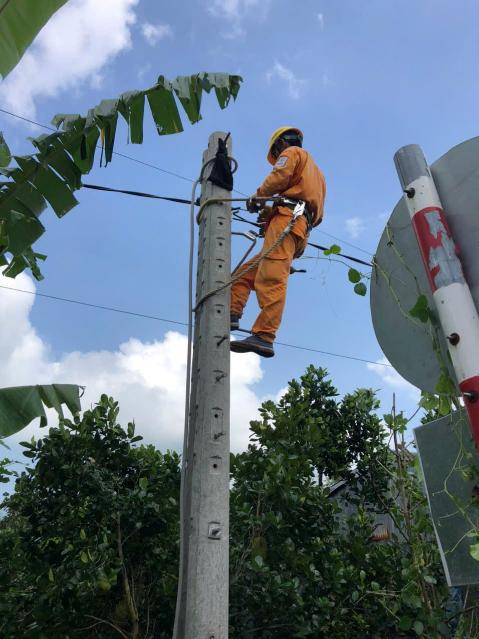gloves: (241, 193, 266, 211)
harness: (273, 198, 329, 239)
helmet: (257, 124, 321, 163)
shoes: (232, 334, 279, 364), (210, 305, 248, 329)
